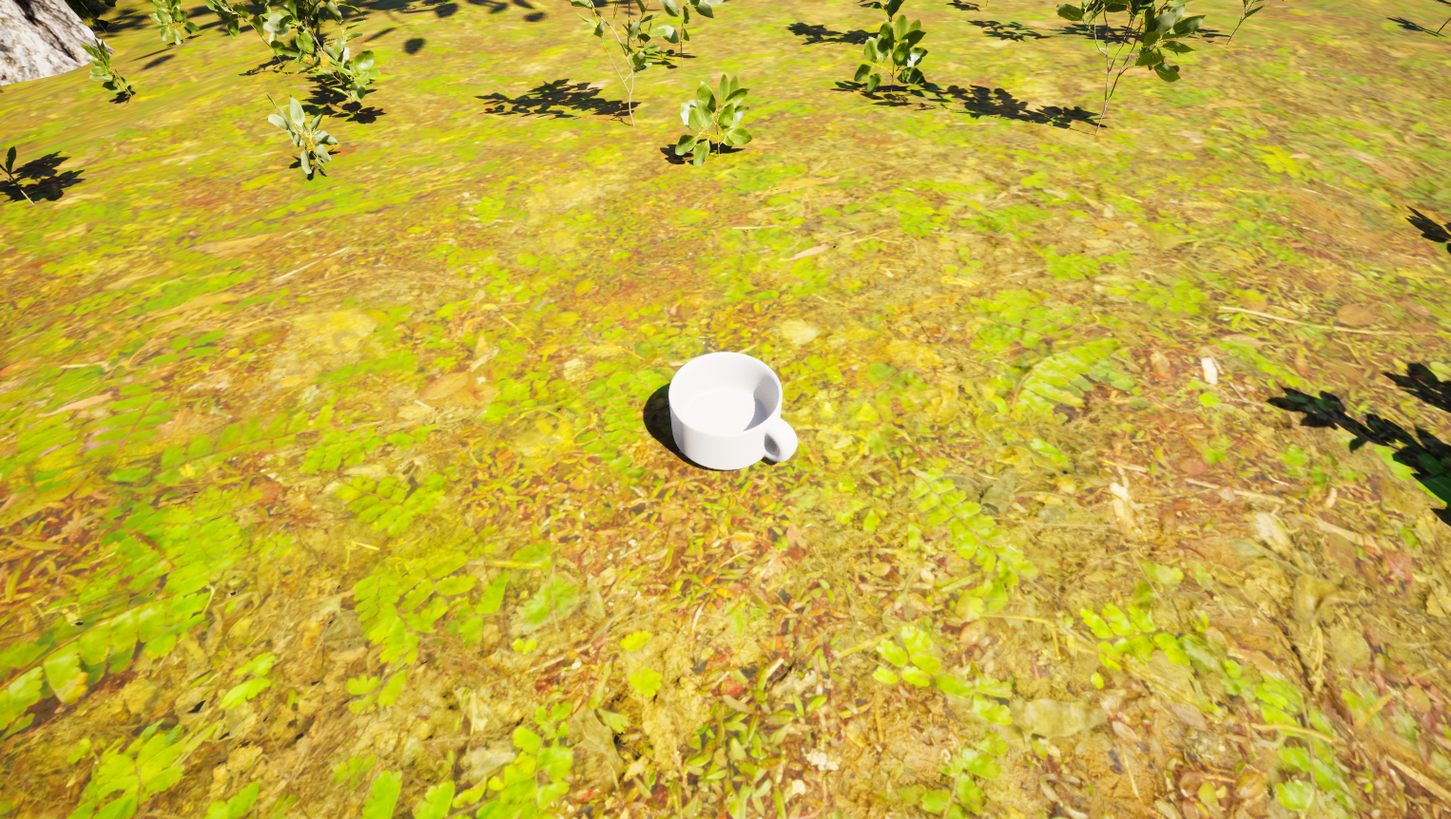Teacup: (657, 342, 807, 497)
